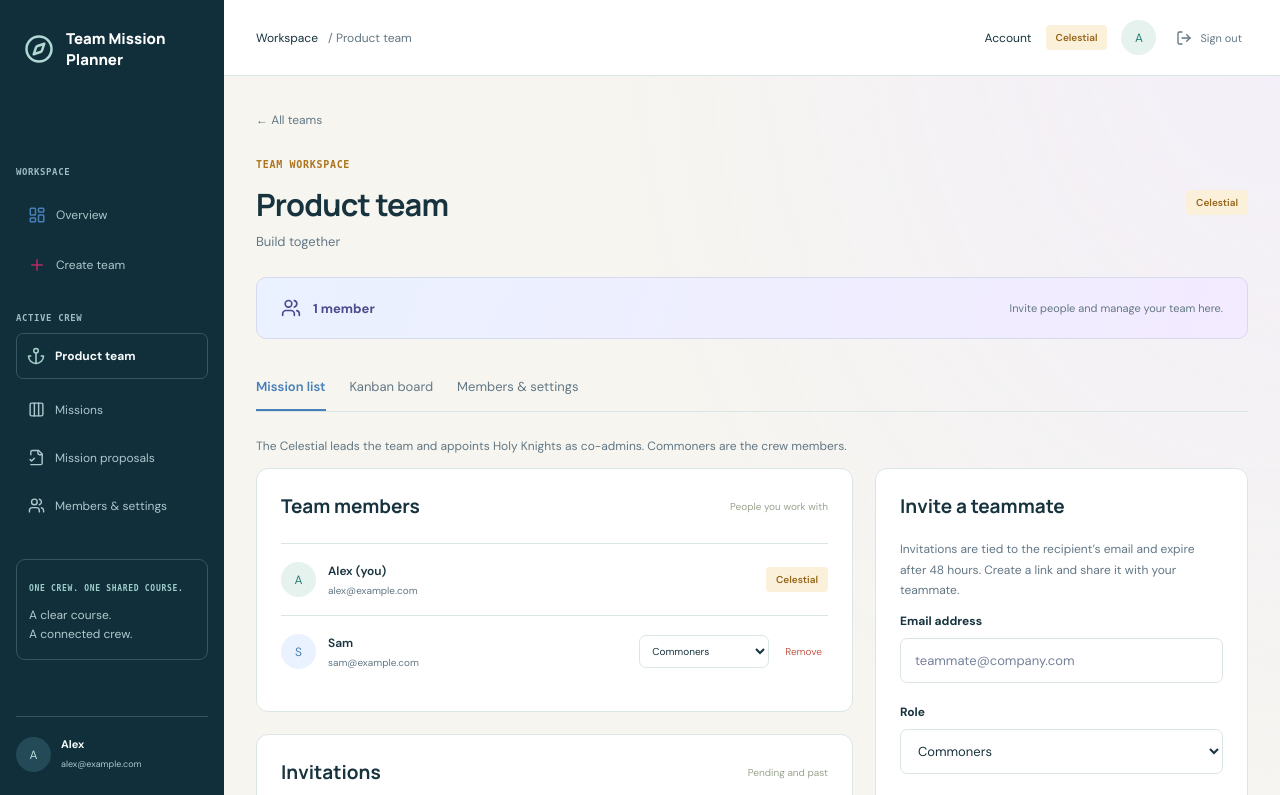
Team and invitation screens › confirms member removal and refreshes the member list
The width and height of the screenshot is (1280, 795).
Click the button "Remove".
click(804, 652)  # box [779,640,828,664]
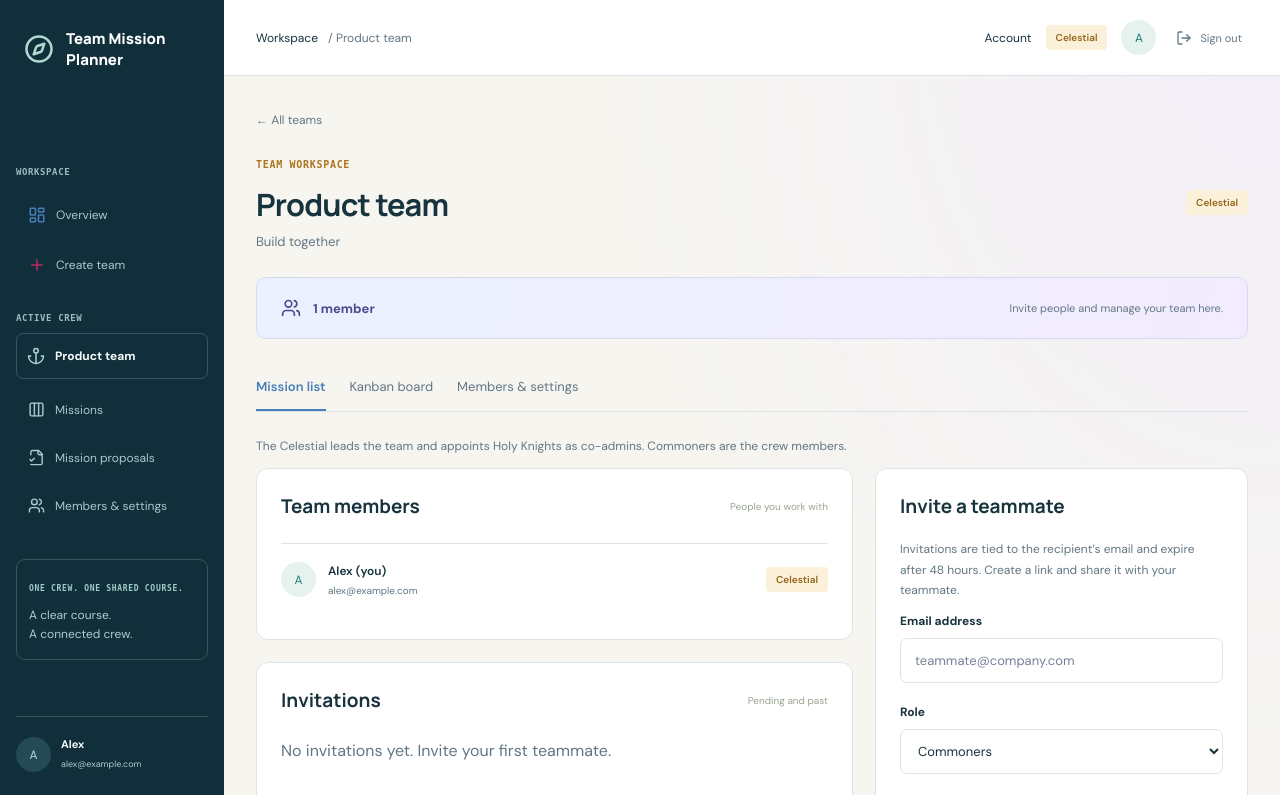
expect the text "Sam" is gone: met
